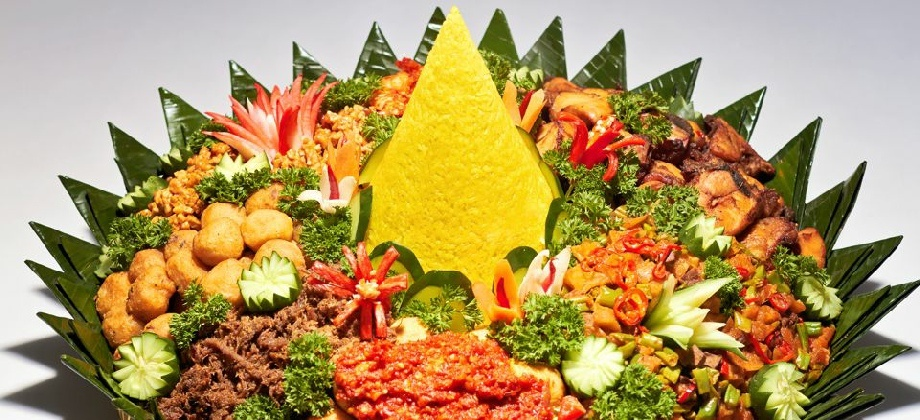nasi_tumpeng: (93, 7, 844, 420)
